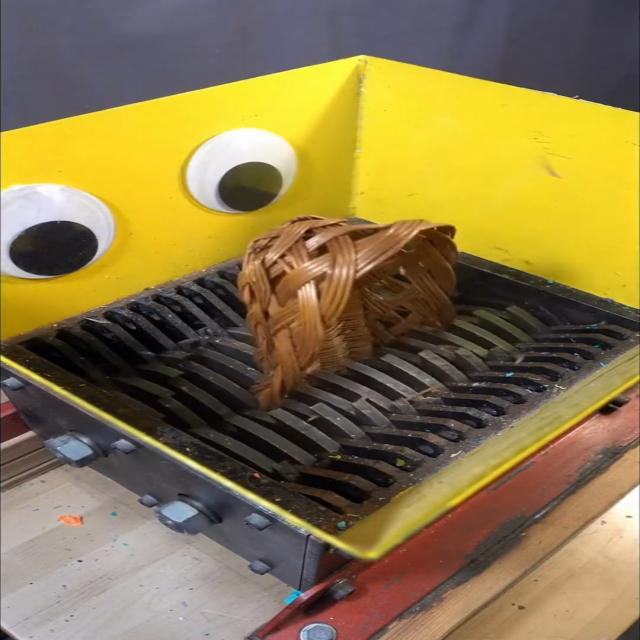Broyeur: (0, 205, 640, 546)
